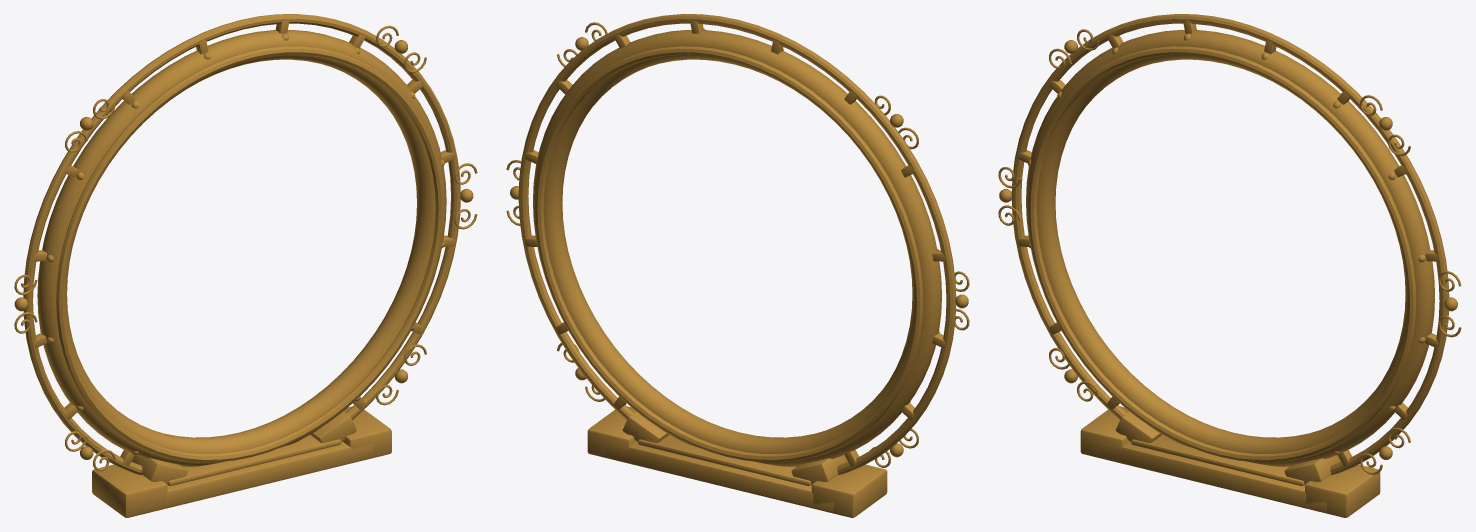
File: door_ring.glb
3 views of the same model, side by side, from view 1: azimuth 30°, elevation 25°; view 2: azimuth 150°, elevation 25°; view 3: azimuth 330°, elevation 25° (orthographic).
Parts seen in each view (by area): view 1: door_ring; view 2: door_ring; view 3: door_ring.
Part boxes in pixels (<box>): door_ring: <box>14,14,477,517</box>; door_ring: <box>506,14,969,517</box>; door_ring: <box>998,14,1461,517</box>.
Bounding box in the file's own units: 5.36 × 5.06 × 0.7.
